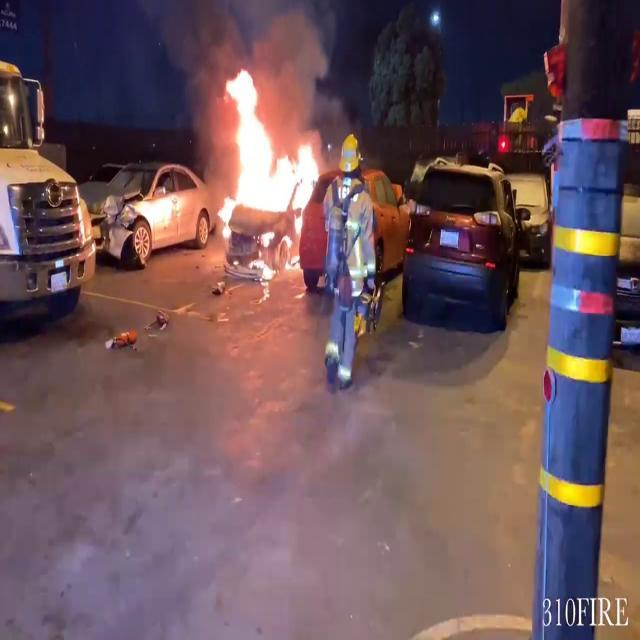Fire: (213, 66, 321, 266)
Smoke: (153, 0, 330, 118)
